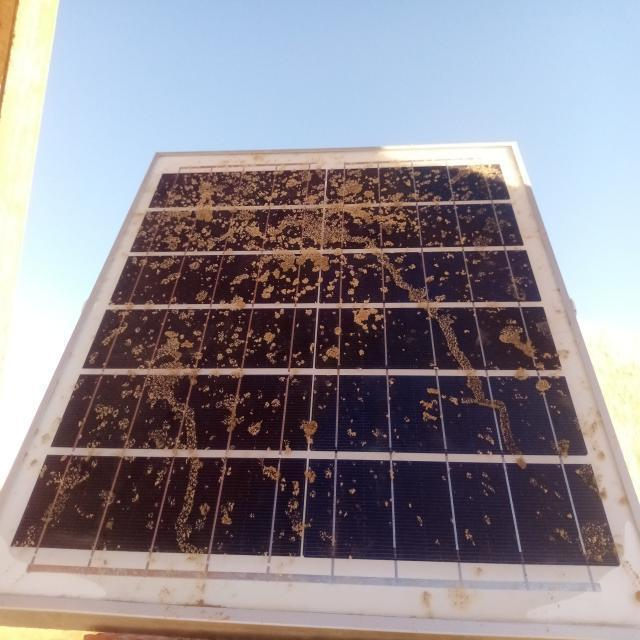Surface Contaminant: (160, 172, 344, 554), (338, 166, 506, 567), (23, 384, 144, 549), (523, 389, 620, 570)
